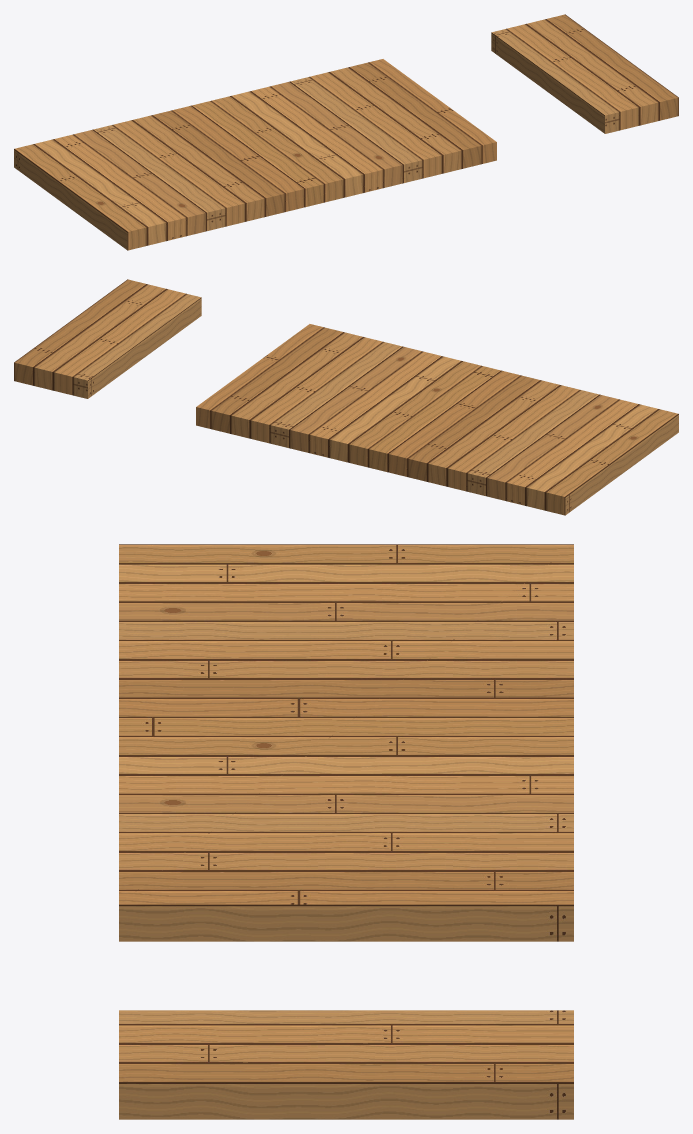
The model's file is STAIR_STARBOARD_START.glb.
3 views of the same model, one above another, from view 1: azimuth 30°, elevation 25°; view 2: azimuth 150°, elevation 25°; view 3: azimuth 270°, elevation 25° (orthographic). The views are drawn at different scales.
Parts seen in each view (by area): view 1: STAIR_STARBOARD_START; view 2: STAIR_STARBOARD_START; view 3: STAIR_STARBOARD_START.
Part boxes in pixels (x1=…): STAIR_STARBOARD_START: x1=14, y1=14, x2=678, y2=250; STAIR_STARBOARD_START: x1=14, y1=279, x2=678, y2=515; STAIR_STARBOARD_START: x1=119, y1=544, x2=573, y2=1119.
Bounding box in the file's own units: 5.6 × 0.18 × 2.
Materials: 1 (1 with a texture image).
